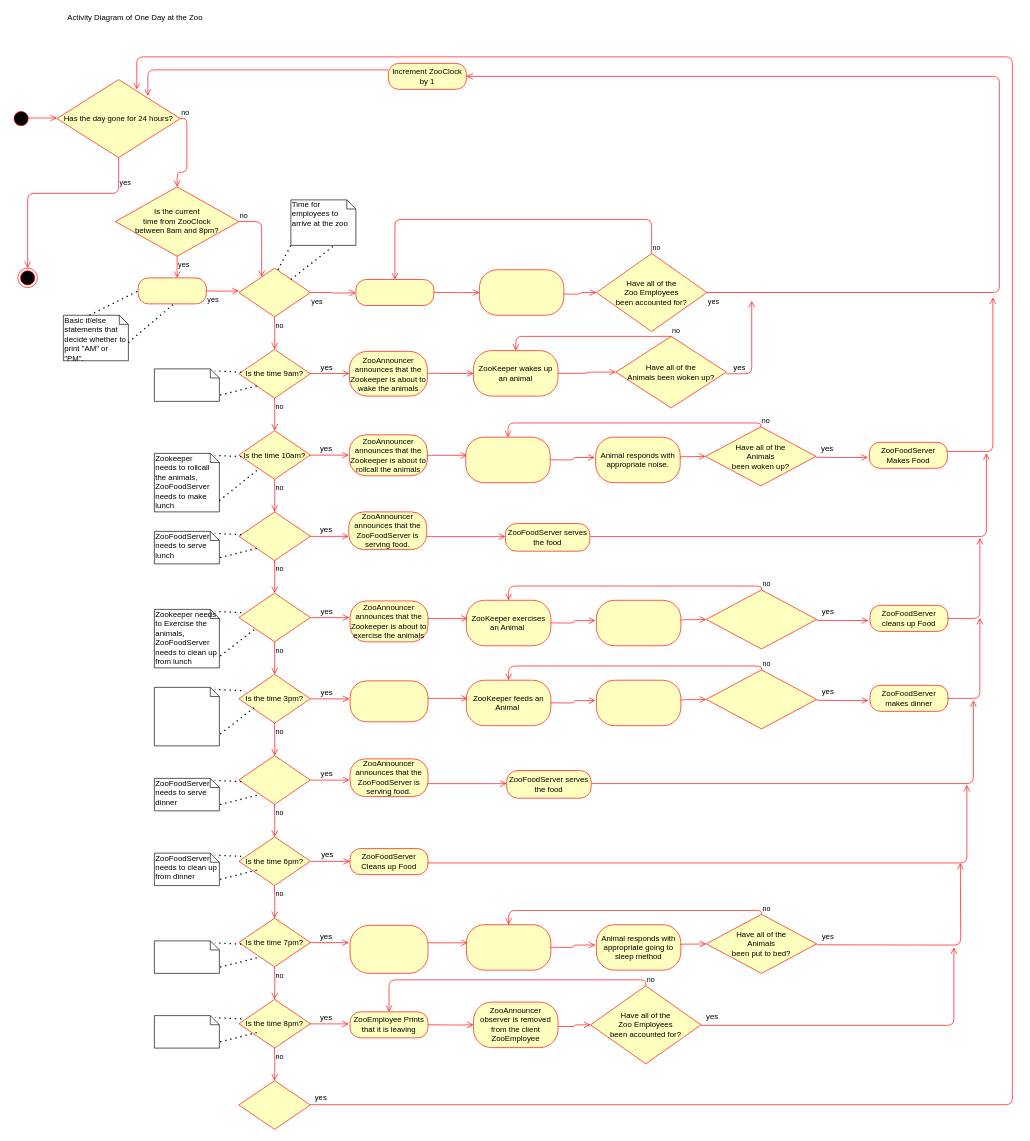
Image size: 1030x1141. Some labels were removed from this diagram. The centre of each missing label's shape, as x and y in pixels:
"Animal responds with appropriate eating method" belongs at point 638,703.
"Animal responds with appropriate exercise method" belongs at point 638,623.
"Have all of the Animals been exercised?" belongs at point 761,619.
"Have all of the Animals been fed?" belongs at point 761,699.
"Is the time 12am?" belongs at point 274,1104.
"Is the time 12pm?" belongs at point 274,536.
"Is the time 1pm?" belongs at point 274,617.
"Is the time 5pm?" belongs at point 274,779.
"Is the time 8am?" belongs at point 274,292.
"New ZooAnnouncer observer is placed on the new client ZooEmployee" belongs at point 521,292.
"Print time" belongs at point 171,290.
"ZooAnnouncer announces that the Zookeeper is about to feed the animals" belongs at point 388,701.
"ZooAnnouncer announces that the Zookeeper is about to put the animals to bed" belongs at point 388,949.
"ZooEmployee Prints that it has arrived" belongs at point 394,292.
"Zookeeper and ZooFoodServer leave" belongs at point 186,1031.
"Zookeeper needs to feed the animals" belongs at point 186,384.
"Zookeeper needs to feed the animals, ZooFoodServer needs to make Dinner" belongs at point 186,716.
"ZooKeeper needs to put each animal to bed" belongs at point 186,956.
"Zookeeper puts an animal to bed" belongs at point 508,947.
"ZooKeeper roll calls" belongs at point 507,460.
